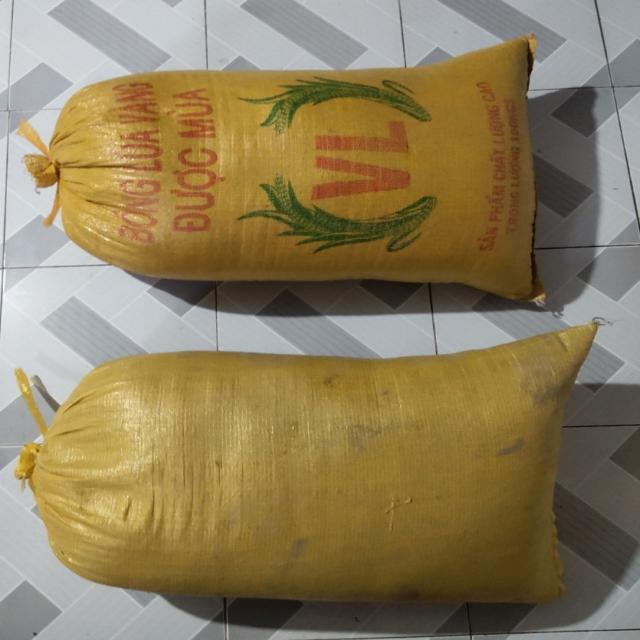gunny_bag: (27, 324, 599, 604), (18, 34, 545, 301)
